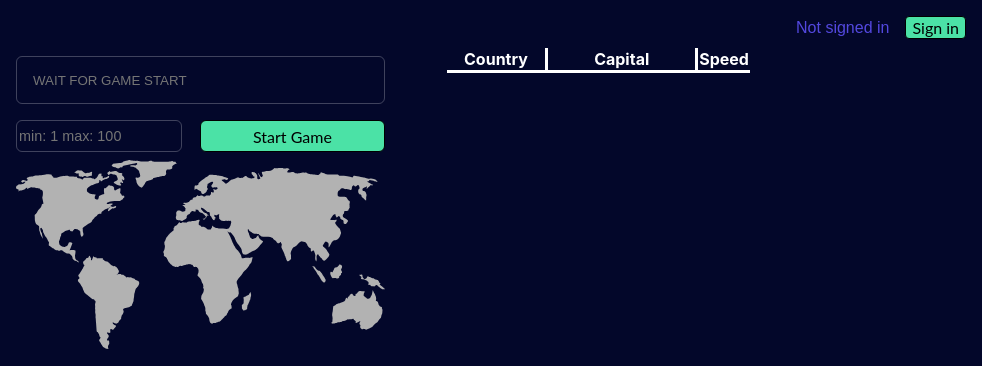
Test: Input is only enabled after pressing start button
Check: the field with test id "answer-input" is disabled, box [16,56,385,104]
Click the button "Start Game".
click(292, 136)  # box [200,120,385,152]
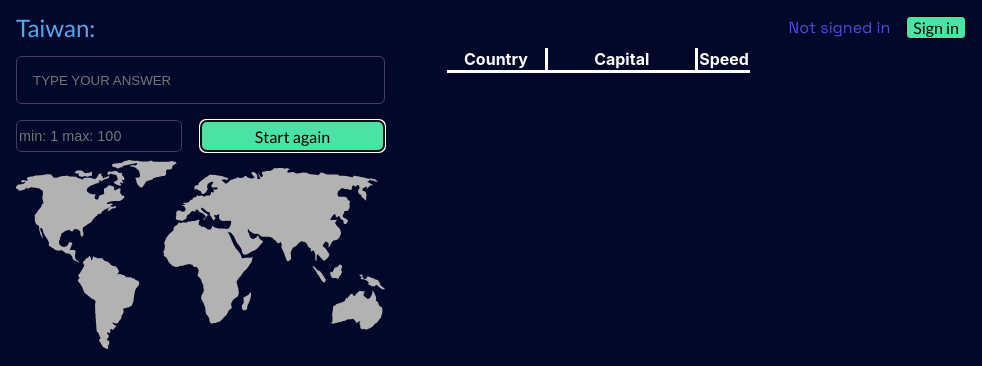
Check: the field with test id "answer-input" is enabled, box [16,56,385,104]
